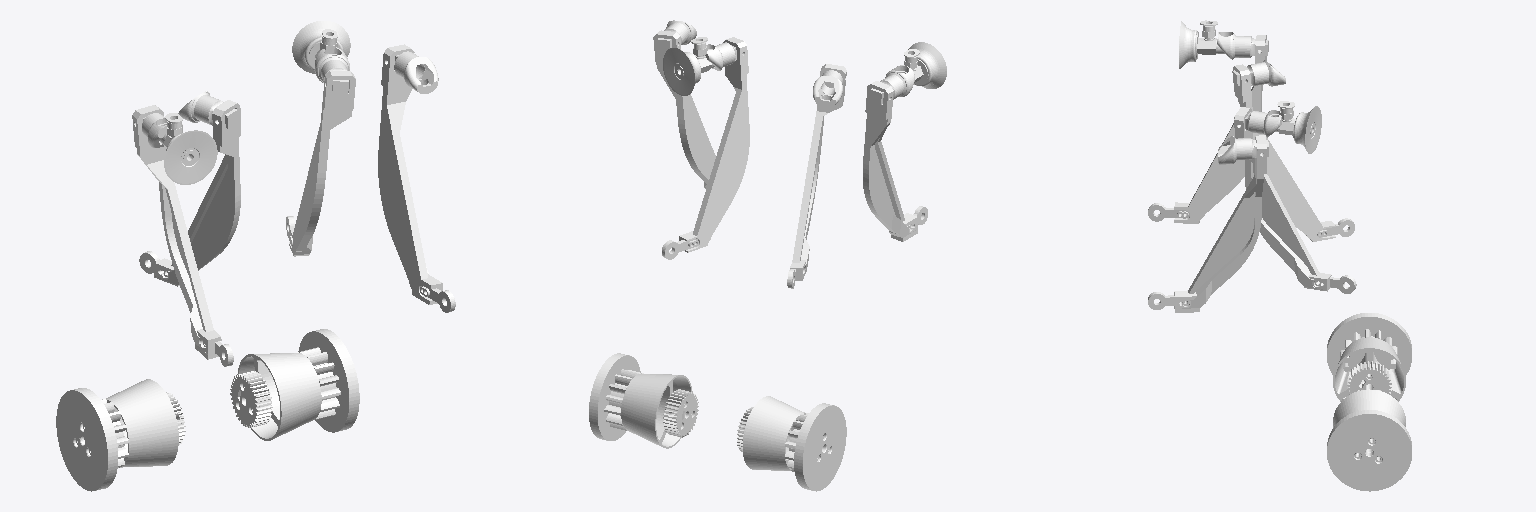
robot.urdf — usagi:
<?xml version="1.0"?>
<robot name="usagi">

<!-- material color setting -->
<material name="#ffffff">
  <color rgba="1.000 1.000 1.000 1.0"/>
</material>

  <link name="base_link"/>

  <joint name="base_link_to_usagi_body" type="revolute">
    <origin xyz="0 0 0" rpy="0.0 0.0 0.0"/>
    <axis xyz="1 0 0"/>
    <parent link="base_link"/>
    <child link="usagi_body"/>
    <limit lower="-3.14159" upper="3.14159" effort="1.37" velocity="7.0"/>
    <dynamics damping="0.18" friction="0.005"/>
  </joint>
  <gazebo reference="base_link_to_usagi_body">
    <implicitSpringDamper>true</implicitSpringDamper>
    <springStiffness>100</springStiffness>
    <springReference>0.0</springReference>
  </gazebo>

  <link name="usagi_body">
    <inertial>
      <origin xyz="-0.000791 0.152744 0.075809" rpy="0.0 0.0 0.0"/>
      <mass value="5"/>
      <inertia ixx="0.05879425" ixy="-0.00047679" ixz="-0.00085104" iyy="0.04130902" iyz="-0.00222019" izz="0.06728805"/>
    </inertial>
    <visual>
      <origin xyz="0 0 0" rpy="0 0 0"/>
      <geometry>
        <mesh filename="package://usagi_description/meshes/usagi_body.stl"/>
      </geometry>
      <material name="#ffffff"/>
    </visual>
  </link>

  <joint name="usagi_body_to_usagi_wheel1" type="revolute">
    <origin xyz="0.028 0.2094 0.019" rpy="0.0 0.0 0.0"/>
    <axis xyz="1 0 0"/>
    <parent link="usagi_body"/>
    <child link="usagi_wheel1"/>
    <limit lower="-3.14159" upper="3.14159" effort="1.37" velocity="7.0"/>
    <dynamics damping="0.18" friction="0.005"/>
  </joint>
  <gazebo reference="usagi_body_to_usagi_wheel1">
    <implicitSpringDamper>true</implicitSpringDamper>
    <springStiffness>100</springStiffness>
    <springReference>0.0</springReference>
  </gazebo>

  <link name="usagi_wheel1">
    <inertial>
      <origin xyz="0.045948 -2.9e-05 -1.1e-05" rpy="0.0 0.0 0.0"/>
      <mass value="0.108014008018"/>
      <inertia ixx="0.00005287" ixy="-0.00000014" ixz="-0.00000005" iyy="0.00007331" iyz="0.00000001" izz="0.00007328"/>
    </inertial>
    <visual>
      <origin xyz="0 0 0" rpy="0 0 0"/>
      <geometry>
        <mesh filename="package://usagi_description/meshes/usagi_wheel1.stl"/>
      </geometry>
      <material name="#ffffff"/>
    </visual>
  </link>

  <joint name="usagi_body_to_usagi_wheel2" type="revolute">
    <origin xyz="-0.028 0.2094 0.019" rpy="0.0 0.0 0.0"/>
    <axis xyz="1 0 0"/>
    <parent link="usagi_body"/>
    <child link="usagi_wheel2"/>
    <limit lower="-3.14159" upper="3.14159" effort="1.37" velocity="7.0"/>
    <dynamics damping="0.18" friction="0.005"/>
  </joint>
  <gazebo reference="usagi_body_to_usagi_wheel2">
    <implicitSpringDamper>true</implicitSpringDamper>
    <springStiffness>100</springStiffness>
    <springReference>0.0</springReference>
  </gazebo>

  <link name="usagi_wheel2">
    <inertial>
      <origin xyz="-0.045936 8e-06 -1.9e-05" rpy="0.0 0.0 0.0"/>
      <mass value="0.108014008018"/>
      <inertia ixx="0.00005287" ixy="-0.00000013" ixz="0.00000007" iyy="0.0000733" iyz="-0.00000002" izz="0.00007329"/>
    </inertial>
    <visual>
      <origin xyz="0 0 0" rpy="0 0 0"/>
      <geometry>
        <mesh filename="package://usagi_description/meshes/usagi_wheel2.stl"/>
      </geometry>
      <material name="#ffffff"/>
    </visual>
  </link>

  <joint name="usagi_body_to_usagi_arm1" type="revolute">
    <origin xyz="0.084 0.0355 0.15" rpy="0.0 0.0 0.087266"/>
    <axis xyz="1 0 0"/>
    <parent link="usagi_body"/>
    <child link="usagi_arm1"/>
    <limit lower="-3.14159" upper="3.14159" effort="1.37" velocity="7.0"/>
    <dynamics damping="0.18" friction="0.005"/>
  </joint>
  <gazebo reference="usagi_body_to_usagi_arm1">
    <implicitSpringDamper>true</implicitSpringDamper>
    <springStiffness>100</springStiffness>
    <springReference>0.0</springReference>
  </gazebo>

  <link name="usagi_arm1">
    <inertial>
      <origin xyz="0.011306 0.060628 0.078314" rpy="0.0 0.0 0.0"/>
      <mass value="0.027948774241"/>
      <inertia ixx="0.00010035" ixy="-0.00000293" ixz="-0.00001057" iyy="0.00009005" iyz="-0.00002552" izz="0.00002893"/>
    </inertial>
    <visual>
      <origin xyz="0 0 0" rpy="0 0 0"/>
      <geometry>
        <mesh filename="package://usagi_description/meshes/usagi_arm1.stl"/>
      </geometry>
      <material name="#ffffff"/>
    </visual>
  </link>

  <joint name="usagi_arm1_to_usagi_cup1" type="revolute">
    <origin xyz="0.02 0.060087 0.143" rpy="0.0 0.0 0.0"/>
    <axis xyz="1 0 0"/>
    <parent link="usagi_arm1"/>
    <child link="usagi_cup1"/>
    <limit lower="-3.14159" upper="3.14159" effort="1.37" velocity="7.0"/>
    <dynamics damping="0.18" friction="0.005"/>
  </joint>
  <gazebo reference="usagi_arm1_to_usagi_cup1">
    <implicitSpringDamper>true</implicitSpringDamper>
    <springStiffness>100</springStiffness>
    <springReference>0.0</springReference>
  </gazebo>

  <link name="usagi_cup1">
    <inertial>
      <origin xyz="-0.000148 -0.030131 0.000884" rpy="0.0 0.0 0.0"/>
      <mass value="0.1"/>
      <inertia ixx="0.00001645" ixy="0.00000007" ixz="0.00000009" iyy="0.000011" iyz="-0.00000084" izz="0.00001552"/>
    </inertial>
    <visual>
      <origin xyz="0 0 0" rpy="0 0 0"/>
      <geometry>
        <mesh filename="package://usagi_description/meshes/usagi_cup1.stl"/>
      </geometry>
      <material name="#ffffff"/>
    </visual>
  </link>

  <joint name="usagi_body_to_usagi_arm2" type="revolute">
    <origin xyz="-0.084 0.0355 0.15" rpy="0.0 0.0 -0.087266"/>
    <axis xyz="1 0 0"/>
    <parent link="usagi_body"/>
    <child link="usagi_arm2"/>
    <limit lower="-3.14159" upper="3.14159" effort="1.37" velocity="7.0"/>
    <dynamics damping="0.18" friction="0.005"/>
  </joint>
  <gazebo reference="usagi_body_to_usagi_arm2">
    <implicitSpringDamper>true</implicitSpringDamper>
    <springStiffness>100</springStiffness>
    <springReference>0.0</springReference>
  </gazebo>

  <link name="usagi_arm2">
    <inertial>
      <origin xyz="-0.011553 0.060482 0.078817" rpy="0.0 0.0 0.0"/>
      <mass value="0.08"/>
      <inertia ixx="0.00010168" ixy="0.00000291" ixz="0.00001075" iyy="0.00009157" iyz="-0.00002522" izz="0.00002892"/>
    </inertial>
    <visual>
      <origin xyz="0 0 0" rpy="0 0 0"/>
      <geometry>
        <mesh filename="package://usagi_description/meshes/usagi_arm2.stl"/>
      </geometry>
      <material name="#ffffff"/>
    </visual>
  </link>

  <joint name="usagi_arm2_to_usagi_cup2" type="revolute">
    <origin xyz="-0.02 0.06 0.143" rpy="0.0 0.0 0.0"/>
    <axis xyz="1 0 0"/>
    <parent link="usagi_arm2"/>
    <child link="usagi_cup2"/>
    <limit lower="-3.14159" upper="3.14159" effort="1.37" velocity="7.0"/>
    <dynamics damping="0.18" friction="0.005"/>
  </joint>
  <gazebo reference="usagi_arm2_to_usagi_cup2">
    <implicitSpringDamper>true</implicitSpringDamper>
    <springStiffness>100</springStiffness>
    <springReference>0.0</springReference>
  </gazebo>

  <link name="usagi_cup2">
    <inertial>
      <origin xyz="-0.000148 -0.030131 0.000884" rpy="0.0 0.0 0.0"/>
      <mass value="0.1"/>
      <inertia ixx="0.00001645" ixy="0.00000007" ixz="0.00000009" iyy="0.000011" iyz="-0.00000084" izz="0.00001552"/>
    </inertial>
    <visual>
      <origin xyz="0 0 0" rpy="0 0 0"/>
      <geometry>
        <mesh filename="package://usagi_description/meshes/usagi_cup2.stl"/>
      </geometry>
      <material name="#ffffff"/>
    </visual>
  </link>

  <joint name="usagi_body_to_usagi_arm3" type="revolute">
    <origin xyz="0.052 0.1917 0.15" rpy="0.0 0.0 -0.349066"/>
    <axis xyz="1 0 0"/>
    <parent link="usagi_body"/>
    <child link="usagi_arm3"/>
    <limit lower="-3.14159" upper="3.14159" effort="1.37" velocity="7.0"/>
    <dynamics damping="0.18" friction="0.005"/>
  </joint>
  <gazebo reference="usagi_body_to_usagi_arm3">
    <implicitSpringDamper>true</implicitSpringDamper>
    <springStiffness>100</springStiffness>
    <springReference>0.0</springReference>
  </gazebo>

  <link name="usagi_arm3">
    <inertial>
      <origin xyz="0.01153 -0.060892 0.080374" rpy="0.0 0.0 0.0"/>
      <mass value="0.08"/>
      <inertia ixx="0.00009422" ixy="0.00000257" ixz="-0.00000994" iyy="0.00008525" iyz="0.00002242" izz="0.00002663"/>
    </inertial>
    <visual>
      <origin xyz="0 0 0" rpy="0 0 0"/>
      <geometry>
        <mesh filename="package://usagi_description/meshes/usagi_arm3.stl"/>
      </geometry>
      <material name="#ffffff"/>
    </visual>
  </link>

  <joint name="usagi_arm3_to_usagi_cup3" type="revolute">
    <origin xyz="0.019084 -0.064996 0.143" rpy="0.0 0.0 0.0"/>
    <axis xyz="1 0 0"/>
    <parent link="usagi_arm3"/>
    <child link="usagi_cup3"/>
    <limit lower="-3.14159" upper="3.14159" effort="1.37" velocity="7.0"/>
    <dynamics damping="0.18" friction="0.005"/>
  </joint>
  <gazebo reference="usagi_arm3_to_usagi_cup3">
    <implicitSpringDamper>true</implicitSpringDamper>
    <springStiffness>100</springStiffness>
    <springReference>0.0</springReference>
  </gazebo>

  <link name="usagi_cup3">
    <inertial>
      <origin xyz="-4.3e-05 0.030123 0.000908" rpy="0.0 0.0 0.0"/>
      <mass value="0.000012434542"/>
      <inertia ixx="0" ixy="0" ixz="0" iyy="0" iyz="0" izz="0"/>
    </inertial>
    <visual>
      <origin xyz="0 0 0" rpy="0 0 0"/>
      <geometry>
        <mesh filename="package://usagi_description/meshes/usagi_cup3.stl"/>
      </geometry>
      <material name="#ffffff"/>
    </visual>
  </link>

  <joint name="usagi_body_to_usagi_arm4" type="revolute">
    <origin xyz="-0.052 0.1917 0.15" rpy="0.0 0.0 0.349066"/>
    <axis xyz="1 0 0"/>
    <parent link="usagi_body"/>
    <child link="usagi_arm4"/>
    <limit lower="-3.14159" upper="3.14159" effort="1.37" velocity="7.0"/>
    <dynamics damping="0.18" friction="0.005"/>
  </joint>
  <gazebo reference="usagi_body_to_usagi_arm4">
    <implicitSpringDamper>true</implicitSpringDamper>
    <springStiffness>100</springStiffness>
    <springReference>0.0</springReference>
  </gazebo>

  <link name="usagi_arm4">
    <inertial>
      <origin xyz="-0.014387 -0.059145 0.078019" rpy="0.0 0.0 0.0"/>
      <mass value="0.08"/>
      <inertia ixx="0.00009241" ixy="-0.00000293" ixz="0.00001004" iyy="0.00008272" iyz="0.00002399" izz="0.0000275"/>
    </inertial>
    <visual>
      <origin xyz="0 0 0" rpy="0 0 0"/>
      <geometry>
        <mesh filename="package://usagi_description/meshes/usagi_arm4.stl"/>
      </geometry>
      <material name="#ffffff"/>
    </visual>
  </link>

  <joint name="usagi_arm4_to_usagi_cup4" type="revolute">
    <origin xyz="-0.02 -0.07 0.133" rpy="0.0 0.0 0.0"/>
    <axis xyz="1 0 0"/>
    <parent link="usagi_arm4"/>
    <child link="usagi_cup4"/>
    <limit lower="-3.14159" upper="3.14159" effort="1.37" velocity="7.0"/>
    <dynamics damping="0.18" friction="0.005"/>
  </joint>
  <gazebo reference="usagi_arm4_to_usagi_cup4">
    <implicitSpringDamper>true</implicitSpringDamper>
    <springStiffness>100</springStiffness>
    <springReference>0.0</springReference>
  </gazebo>

  <link name="usagi_cup4">
    <inertial>
      <origin xyz="-4.3e-05 0.030123 0.000908" rpy="0.0 0.0 0.0"/>
      <mass value="0.1"/>
      <inertia ixx="0.00001645" ixy="0.00000007" ixz="-0.00000009" iyy="0.000011" iyz="0.00000084" izz="0.00001552"/>
    </inertial>
    <visual>
      <origin xyz="0 0 0" rpy="0 0 0"/>
      <geometry>
        <mesh filename="package://usagi_description/meshes/usagi_cup4.stl"/>
      </geometry>
      <material name="#ffffff"/>
    </visual>
  </link>

</robot>

--- Render facts (derived) ---
3 views of the same robot in one strip: view 1: azimuth 30°, elevation 25°; view 2: azimuth 150°, elevation 25°; view 3: azimuth 270°, elevation 25° (orthographic).
Robot: usagi — 12 links, 11 joints (11 revolute); root link base_link; default pose: every joint at zero.
Links seen in each view (by area): view 1: usagi_wheel2, usagi_wheel1, usagi_arm1, usagi_arm4, usagi_arm2, usagi_arm3, usagi_cup2, usagi_cup3; view 2: usagi_wheel2, usagi_wheel1, usagi_arm3, usagi_arm2, usagi_arm4, usagi_arm1, usagi_cup3, usagi_cup2; view 3: usagi_wheel1, usagi_arm1, usagi_wheel2, usagi_arm3, usagi_arm2, usagi_arm4, usagi_cup3, usagi_cup2.
Boxes of the visible links, bbox=[...] form: usagi_wheel2: bbox=[56, 379, 185, 491]; usagi_wheel1: bbox=[230, 329, 359, 440]; usagi_arm1: bbox=[378, 44, 455, 312]; usagi_arm4: bbox=[139, 91, 240, 286]; usagi_arm2: bbox=[132, 105, 233, 366]; usagi_arm3: bbox=[286, 47, 355, 256]; usagi_cup2: bbox=[160, 113, 217, 184]; usagi_cup3: bbox=[292, 21, 350, 73]; usagi_wheel2: bbox=[737, 396, 846, 491]; usagi_wheel1: bbox=[589, 353, 698, 448]; usagi_arm3: bbox=[662, 37, 749, 259]; usagi_arm2: bbox=[863, 65, 927, 241]; usagi_arm4: bbox=[787, 64, 846, 288]; usagi_arm1: bbox=[653, 20, 715, 188]; usagi_cup3: bbox=[663, 37, 714, 95]; usagi_cup2: bbox=[904, 42, 946, 88]; usagi_wheel1: bbox=[1327, 389, 1411, 491]; usagi_arm1: bbox=[1148, 135, 1268, 312]; usagi_wheel2: bbox=[1327, 313, 1411, 401]; usagi_arm3: bbox=[1234, 107, 1356, 293]; usagi_arm2: bbox=[1148, 32, 1268, 223]; usagi_arm4: bbox=[1232, 60, 1354, 241]; usagi_cup3: bbox=[1272, 101, 1321, 153]; usagi_cup2: bbox=[1179, 20, 1224, 68].
Size in the robot's own frame: 0.234 by 0.2165 by 0.33 metres.
Meshes: 11 distinct files referenced, 8 mesh visuals loaded (8 binary STL); not drawn: 3 (reference not matched to a file when rendering).
